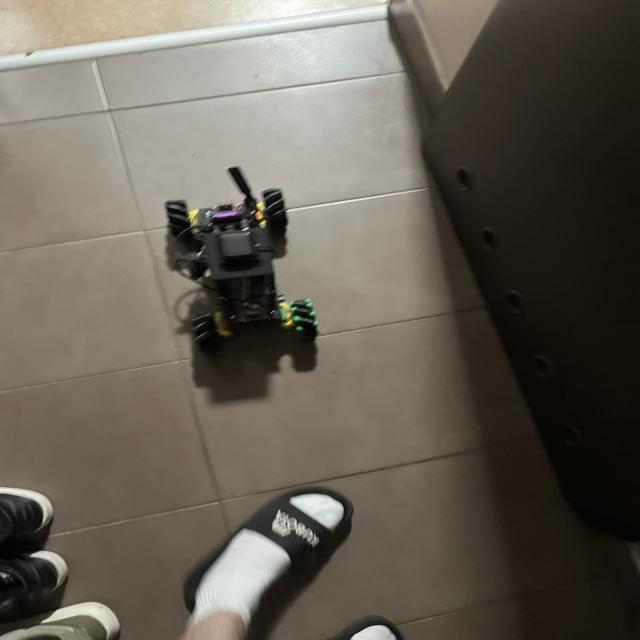robot: (165, 167, 318, 354)
